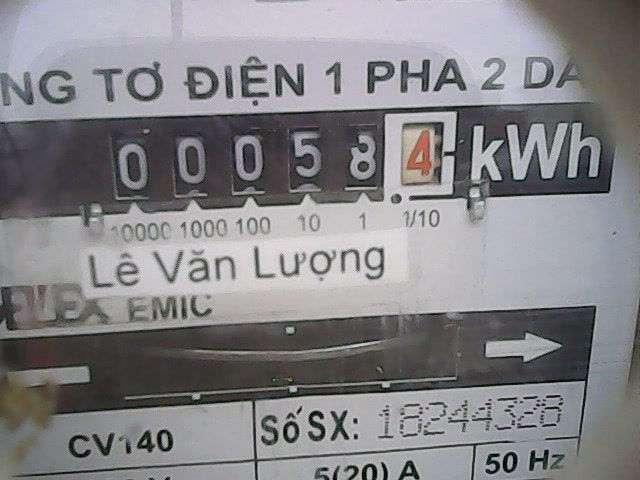phy_plate: (90, 106, 467, 208)
